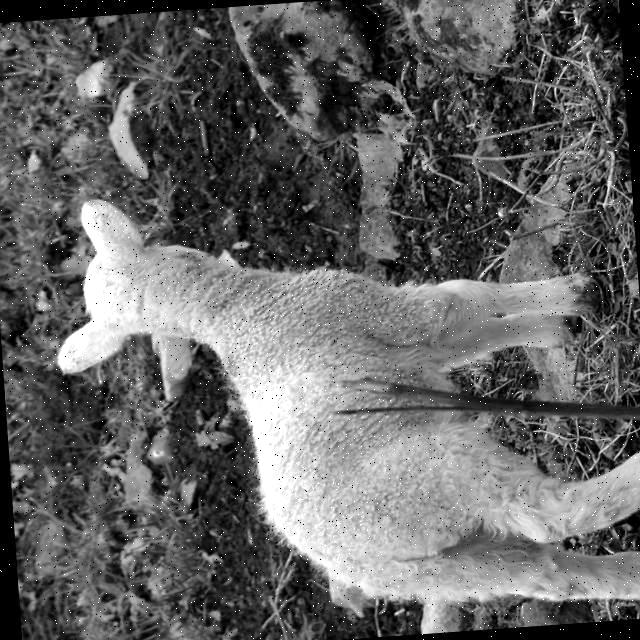sheep: (58, 198, 640, 611)
